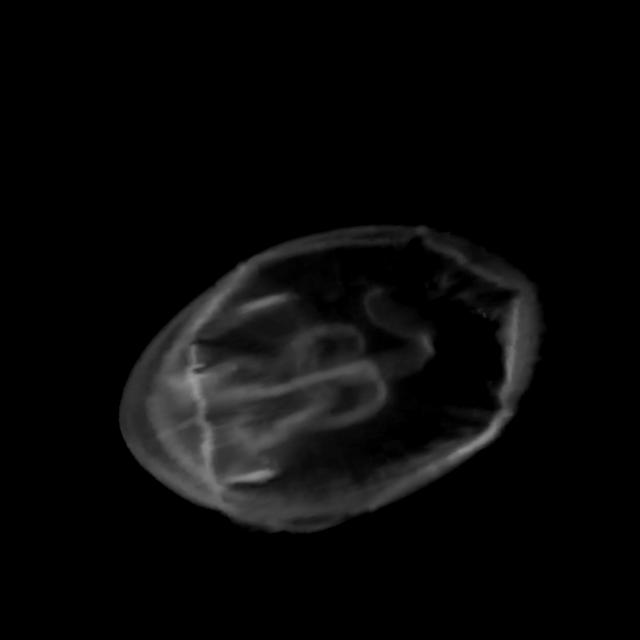Moon-jellyfish: (124, 225, 557, 536)
